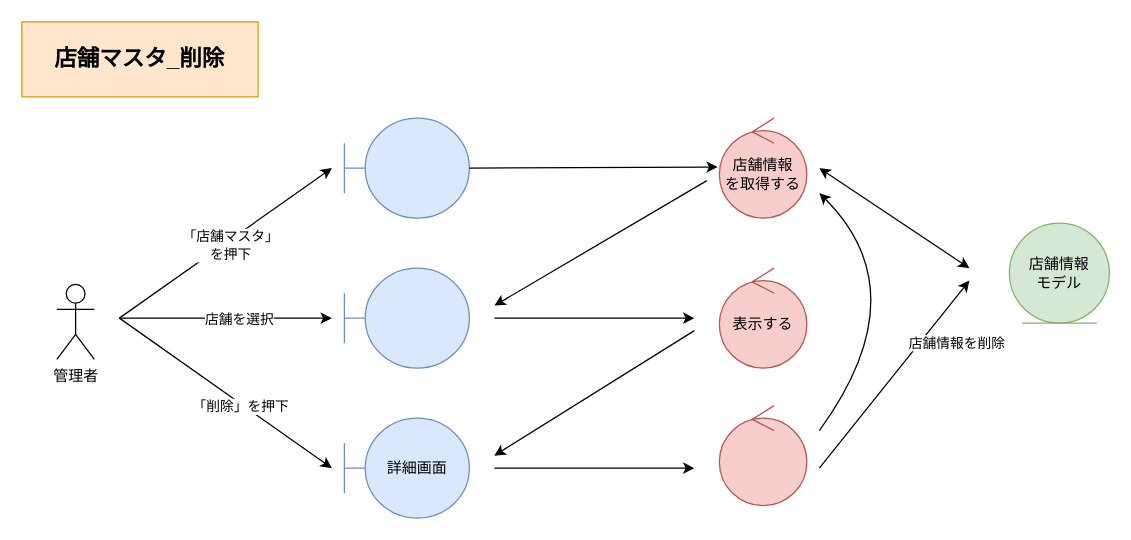
Some shapes in this 1131 by 540 pixel diagram are drawn without their labels. Each missing label, with the centre of its shape:
"ログイン済 ホーム画面" goes at (406,167).
"削除する" goes at (762,455).
"店舗情報 一覧画面" goes at (406,317).
